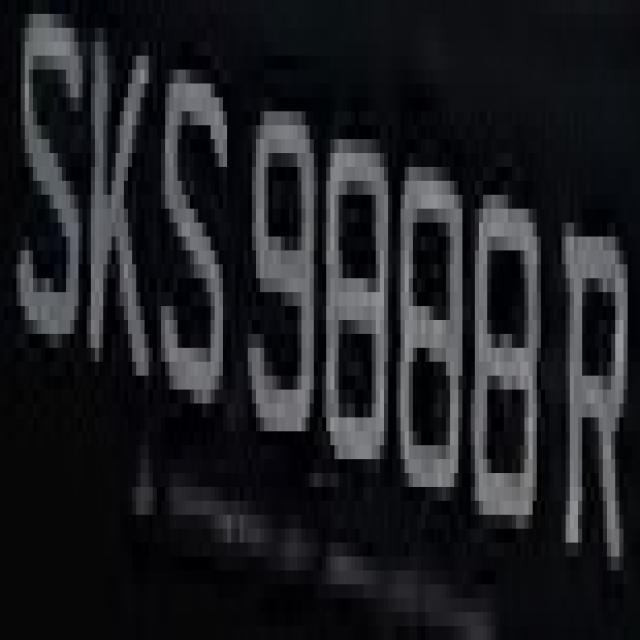8: (467, 139, 545, 557), (388, 167, 475, 529), (318, 97, 388, 501)
9: (240, 70, 322, 542)
K: (78, 42, 153, 431)
R: (557, 167, 632, 598)
S: (157, 28, 235, 445), (21, 0, 78, 334)
